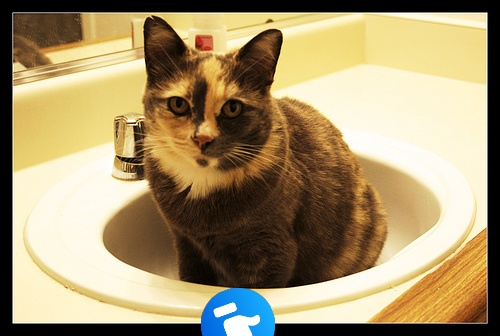like: (201, 288, 275, 336)
